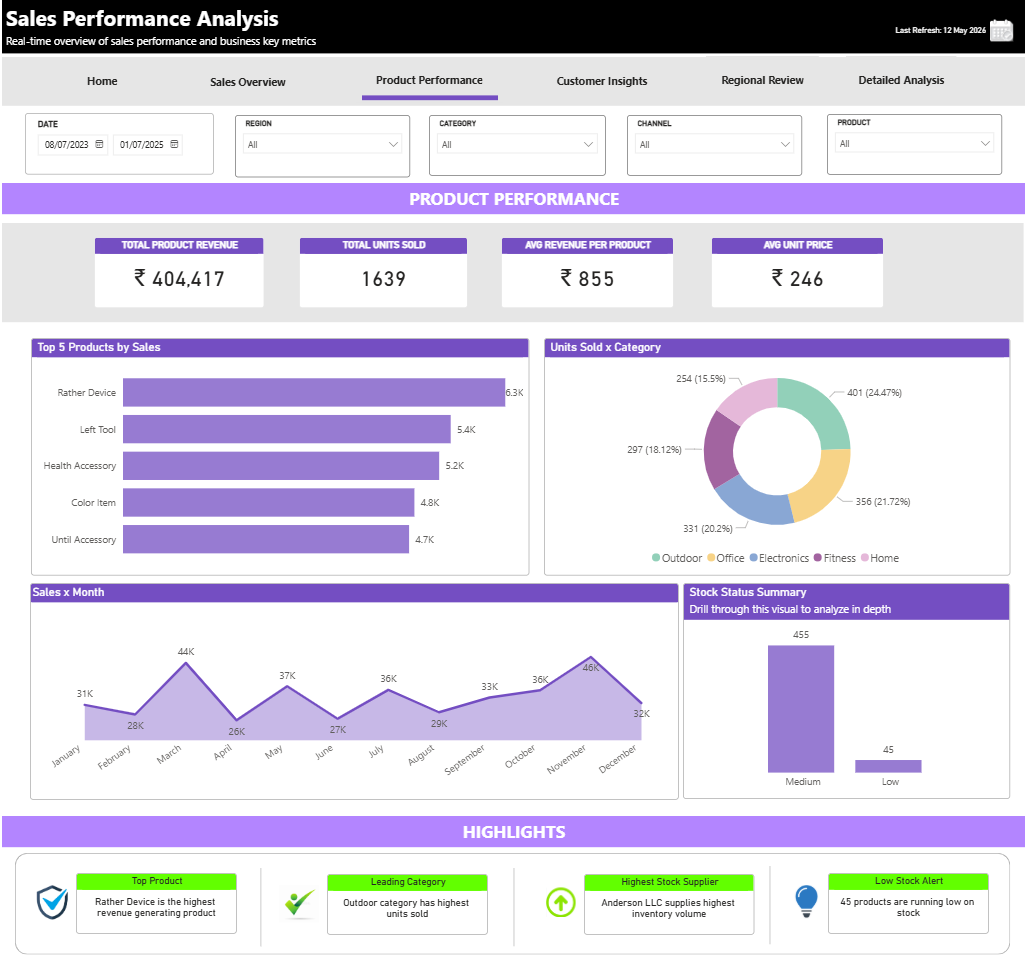

What the dashboard file says about the page in this screenshot:
{"tool":"powerbi","page":{"name":"Product Performance","canvas":[1280,1200],"ordinal":2},"visuals":[{"type":"textbox","box":[0.5,280.4,1276.7,124],"z":0},{"type":"textbox","box":[0,0,1280.2,68.2],"z":1000},{"type":"slicer","fields":{"Values":["Merge1.SaleDate"]},"box":[28.6,142.9,236,77.5],"z":2000},{"type":"slicer","fields":{"Values":["Products.Category"]},"box":[534.1,145.4,220.5,76.4],"z":3000},{"type":"textbox","box":[0,230.1,1280.2,39.3],"z":4000},{"type":"textbox","box":[0,39,589,33],"z":5000},{"type":"card","title":"TOTAL UNITS SOLD","fields":{"Values":["Merge1.Total Units Sold"]},"box":[371,297,211,89],"z":6000},{"type":"card","title":"TOTAL PRODUCT REVENUE","fields":{"Values":["Merge1.Total Sales Amount Display"]},"box":[115,298,213,89],"z":7000},{"type":"card","title":"AVG REVENUE PER PRODUCT","fields":{"Values":["Merge1.Avg Revenue Per Product"]},"box":[624,297,216,89],"z":8000},{"type":"card","title":"AVG UNIT PRICE","fields":{"Values":["Products.Avg Unit Price"]},"box":[886,297,216,89],"z":9000},{"type":"image","box":[1229.8,19.9,38.8,37.8],"z":10000},{"type":"slicer","fields":{"Values":["Regional Target.Region"]},"box":[291.4,145.4,219.3,77.6],"z":11000},{"type":"slicer","fields":{"Values":["Merge1.SalesChannel"]},"box":[781.7,145.4,219.3,76.4],"z":12000},{"type":"donutChart","title":"Units Sold x Category","fields":{"Category":["Products.Category"],"Y":["Sum(Sales.Quantity)"]},"box":[677.1,423.2,582.9,296.8],"z":13000},{"type":"columnChart","title":"Stock Status Summary","fields":{"Y":["Merge1.Measure"],"Category":["Products.Stock Status"]},"box":[851,730,409,270],"z":14000},{"type":"barChart","title":"Top 5 Products by Sales","fields":{"Category":["Products.ProductName"],"Y":["Merge1.Total Sales Amount"]},"box":[35.8,423.2,623.4,296.8],"z":15000},{"type":"shape","title":"Sales x Month","box":[34.6,729.5,810.6,270.6],"z":16000},{"type":"lineChart","title":"Sales x Month","fields":{"Y":["Merge1.Total Sales Amount"],"Category":["Merge1.SaleDate.Variation.Date Hierarchy.Month"]},"box":[50.1,793.9,779.6,197.9],"z":17000},{"type":"slicer","fields":{"Values":["Products.ProductName"]},"box":[1031.8,144.2,219.3,76.4],"z":18000},{"type":"textbox","box":[0,72,1398.9,61.1],"z":19000},{"type":"shape","title":"Detailed Creative Line","box":[236.7,110.3,146.6,35.8],"z":20000},{"type":"actionButton","title":"Detailed Creative Button","box":[219.3,74.5,177.1,57.2],"z":21000},{"type":"shape","title":"Detailed Creative Line","box":[1063.3,105.4,122,39.4],"z":22000},{"type":"actionButton","title":"Detailed Creative Button","box":[1055,71.2,138.5,58.7],"z":23000},{"type":"shape","title":"Detailed Creative Line","box":[681.2,109.1,144.4,36.7],"z":24000},{"type":"actionButton","title":"Detailed Creative Button","box":[664.6,72.4,170,58.9],"z":25000},{"type":"shape","title":"Detailed Creative Line","box":[890.8,106.6,122,38.2],"z":26000},{"type":"actionButton","title":"Detailed Creative Button","box":[879.9,71.2,141.4,59.6],"z":27000},{"type":"actionButton","title":"Detailed Creative Button","box":[442.3,72.3,183.3,56.7],"z":28000},{"type":"shape","title":"Detailed Creative Line","box":[449.8,105.4,170,37],"z":29000},{"type":"shape","title":"Detailed Creative Line","box":[76.7,109.1,105.9,35.6],"z":30000},{"type":"actionButton","title":"Detailed Creative Button","box":[61.5,72.1,127.9,58.7],"z":31000},{"type":"card","fields":{"Values":["Merge1.Last Refresh Date"]},"box":[1097.4,28.1,151.8,27.2],"z":32000},{"type":"textbox","box":[0,1021,1280,39],"z":33000},{"type":"shape","box":[16,1067,1244,127],"z":34000},{"type":"shape","box":[292,1086,62,98],"z":35000},{"type":"shape","box":[609.1,1085.7,62.4,97.8],"z":36000},{"type":"shape","box":[928.2,1083.3,62.4,97.8],"z":37000},{"type":"image","box":[980,1103,52,52],"z":38000},{"type":"image","box":[36,1097,62,63],"z":39000},{"type":"card","title":"Top Product","fields":{"Values":["Products.Top Product Insight"]},"box":[93,1093,201,76],"z":40000},{"type":"card","title":"Low Stock Alert","fields":{"Values":["Products.Low Stock Insight"]},"box":[1032,1093,201,76],"z":41000},{"type":"card","title":"Highest Stock Supplier","fields":{"Values":["Products.Top Supplier Insight"]},"box":[727,1094,213,76],"z":42000},{"type":"card","title":"Leading Category","fields":{"Values":["Products.Top Category Insight"]},"box":[406,1094,201,76],"z":43000},{"type":"image","box":[675,1102,47,53],"z":44000},{"type":"image","box":[341,1103,60,57],"z":45000}]}

Visuals, with their boxes in screenshot pixels (x1, y1, x2, y2), scaled from the page's 1280x1200 canvas onto the 1025x962 screenshot:
textbox: box=[0, 225, 1023, 324]
textbox: box=[0, 0, 1024, 55]
slicer - Merge1.SaleDate: box=[23, 115, 212, 177]
slicer - Products.Category: box=[428, 117, 604, 178]
textbox: box=[0, 184, 1024, 216]
textbox: box=[0, 31, 472, 58]
"TOTAL UNITS SOLD" card: box=[297, 238, 466, 309]
"TOTAL PRODUCT REVENUE" card: box=[92, 239, 263, 310]
"AVG REVENUE PER PRODUCT" card: box=[500, 238, 673, 309]
"AVG UNIT PRICE" card: box=[709, 238, 882, 309]
image: box=[985, 16, 1016, 46]
slicer - Regional Target.Region: box=[233, 117, 409, 179]
slicer - Merge1.SalesChannel: box=[626, 117, 802, 178]
"Units Sold x Category" donutChart: box=[542, 339, 1009, 577]
"Stock Status Summary" columnChart: box=[681, 585, 1009, 802]
"Top 5 Products by Sales" barChart: box=[29, 339, 528, 577]
"Sales x Month" shape: box=[28, 585, 677, 802]
"Sales x Month" lineChart: box=[40, 636, 664, 795]
slicer - Products.ProductName: box=[826, 116, 1002, 177]
textbox: box=[0, 58, 1024, 107]
"Detailed Creative Line" shape: box=[190, 88, 307, 117]
"Detailed Creative Button" actionButton: box=[176, 60, 317, 106]
"Detailed Creative Line" shape: box=[851, 84, 949, 116]
"Detailed Creative Button" actionButton: box=[845, 57, 956, 104]
"Detailed Creative Line" shape: box=[545, 87, 661, 117]
"Detailed Creative Button" actionButton: box=[532, 58, 668, 105]
"Detailed Creative Line" shape: box=[713, 85, 811, 116]
"Detailed Creative Button" actionButton: box=[705, 57, 818, 105]
"Detailed Creative Button" actionButton: box=[354, 58, 501, 103]
"Detailed Creative Line" shape: box=[360, 84, 496, 114]
"Detailed Creative Line" shape: box=[61, 87, 146, 116]
"Detailed Creative Button" actionButton: box=[49, 58, 152, 105]
card - Merge1.Last Refresh Date: box=[879, 23, 1000, 44]
textbox: box=[0, 819, 1024, 850]
shape: box=[13, 855, 1009, 957]
shape: box=[234, 871, 283, 949]
shape: box=[488, 870, 538, 949]
shape: box=[743, 868, 793, 947]
image: box=[785, 884, 826, 926]
image: box=[29, 879, 78, 930]
"Top Product" card: box=[74, 876, 235, 937]
"Low Stock Alert" card: box=[826, 876, 987, 937]
"Highest Stock Supplier" card: box=[582, 877, 753, 938]
"Leading Category" card: box=[325, 877, 486, 938]
image: box=[541, 883, 578, 926]
image: box=[273, 884, 321, 930]
